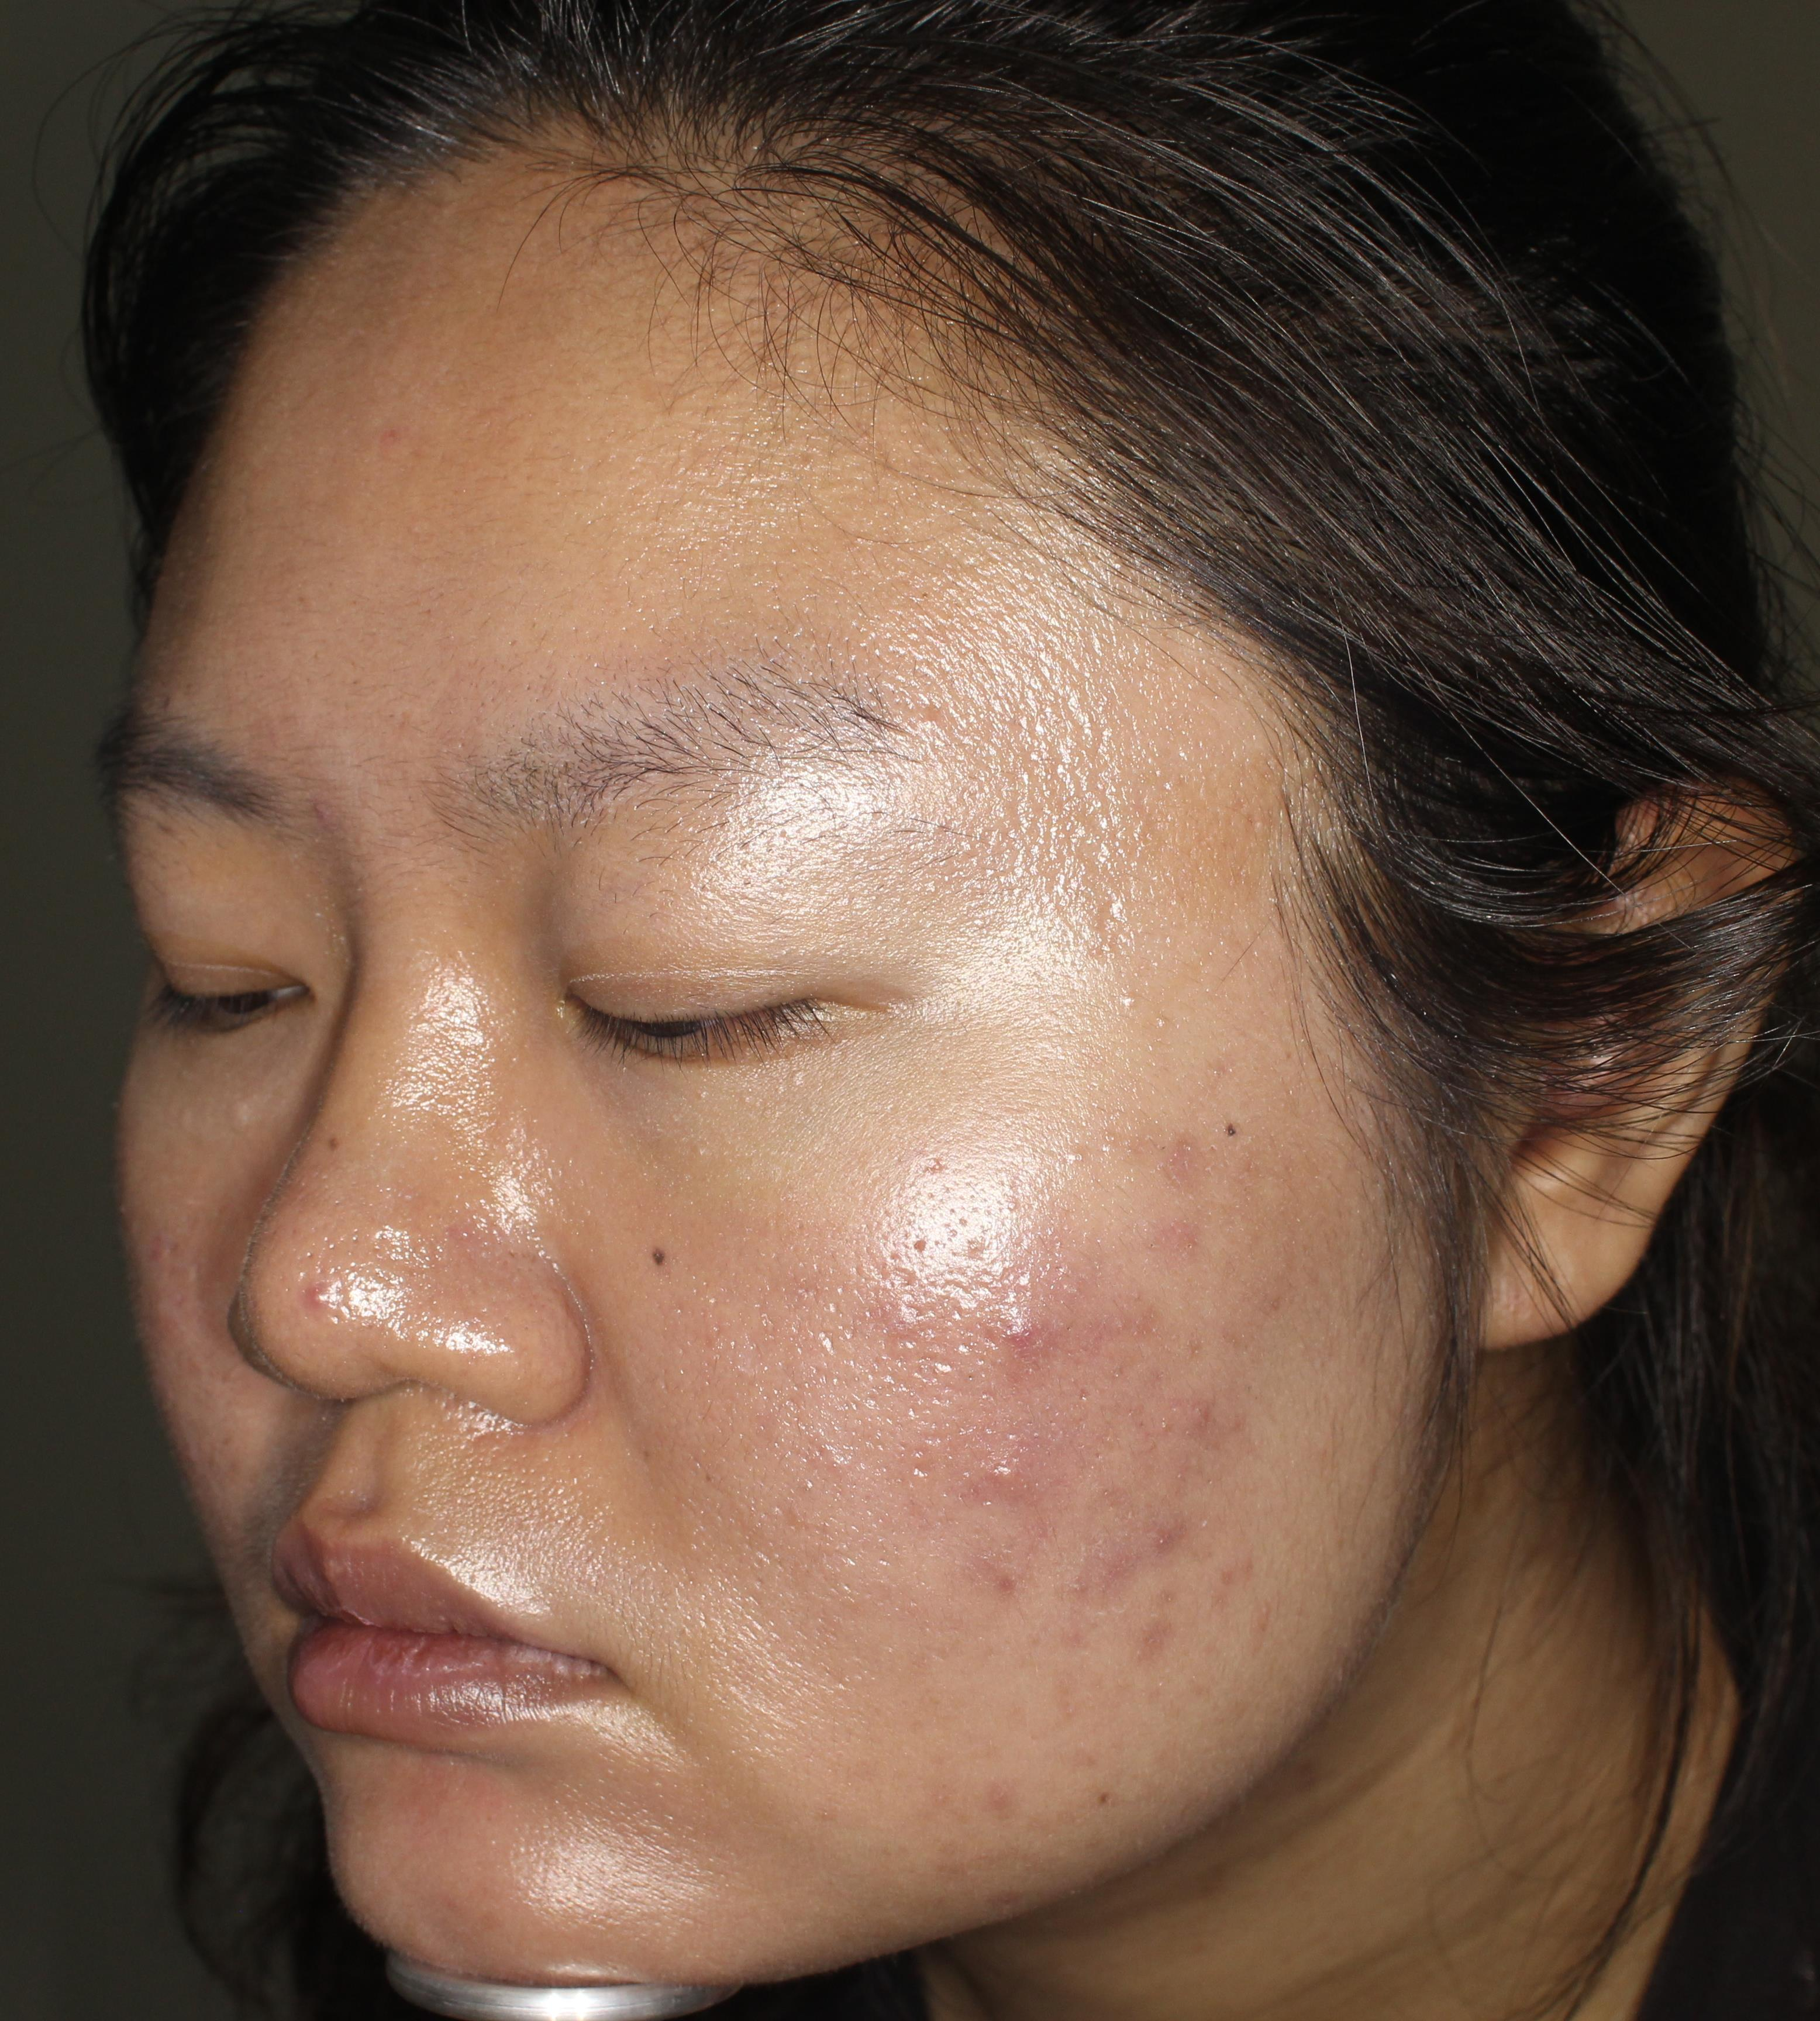fore: (961, 1424, 1063, 1508), (961, 1306, 1086, 1366), (1161, 1392, 1256, 1468), (961, 1536, 1045, 1612), (1123, 1491, 1202, 1554), (1123, 1612, 1175, 1675), (1086, 1554, 1126, 1586)
